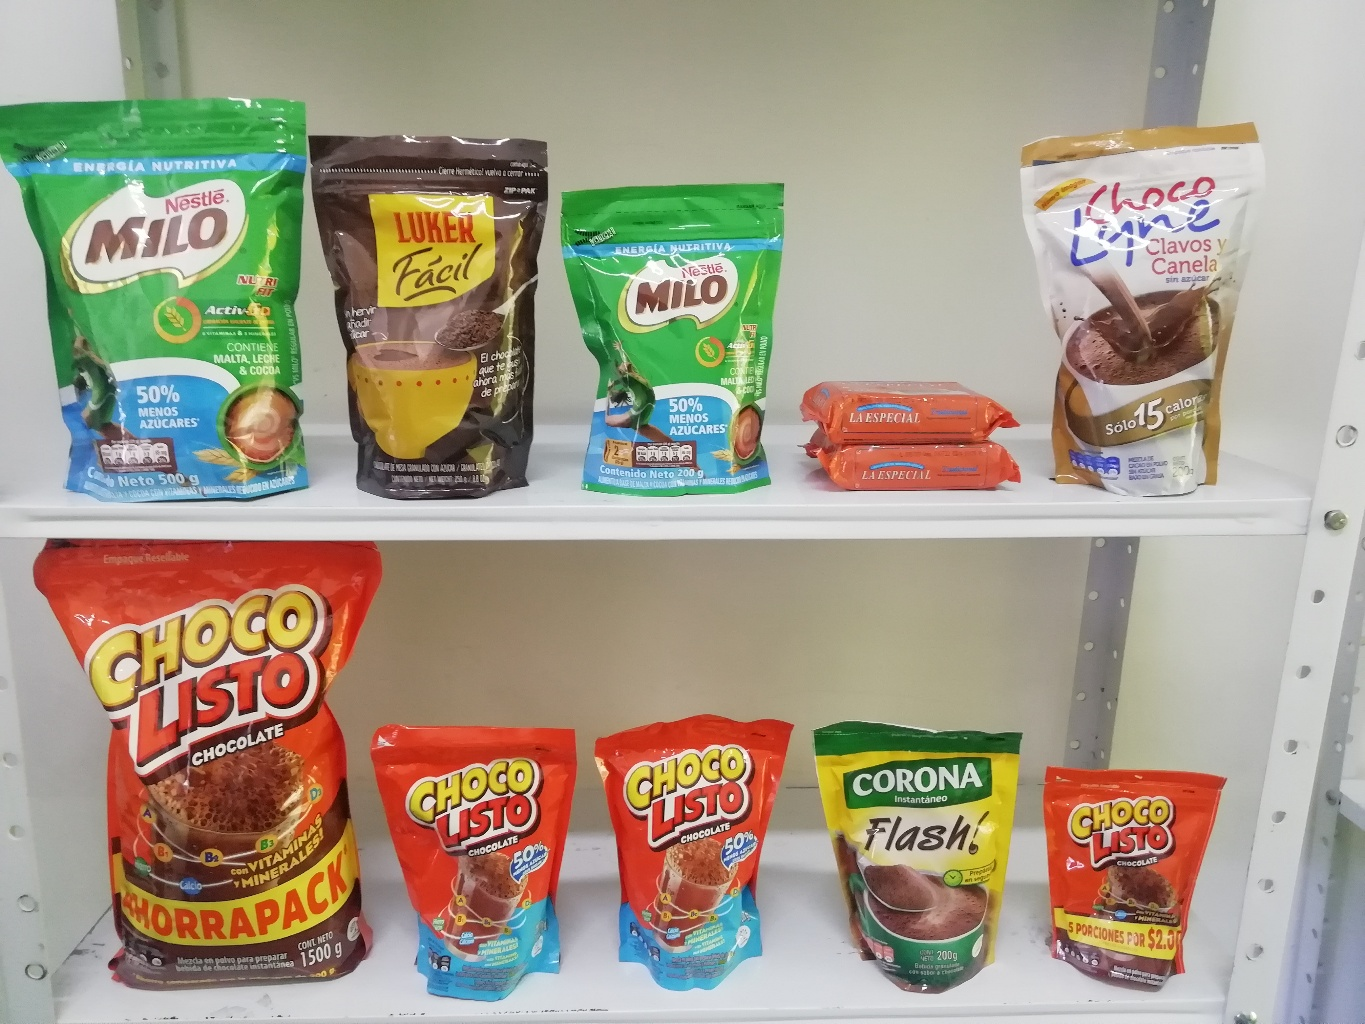COL0170103DYP1,500: (33, 539, 392, 991)
COL0170104DYP20000: (583, 713, 801, 995)
COL0170205DYP20000: (558, 182, 790, 493)
COL0170205DYP50000: (1, 106, 328, 496)
